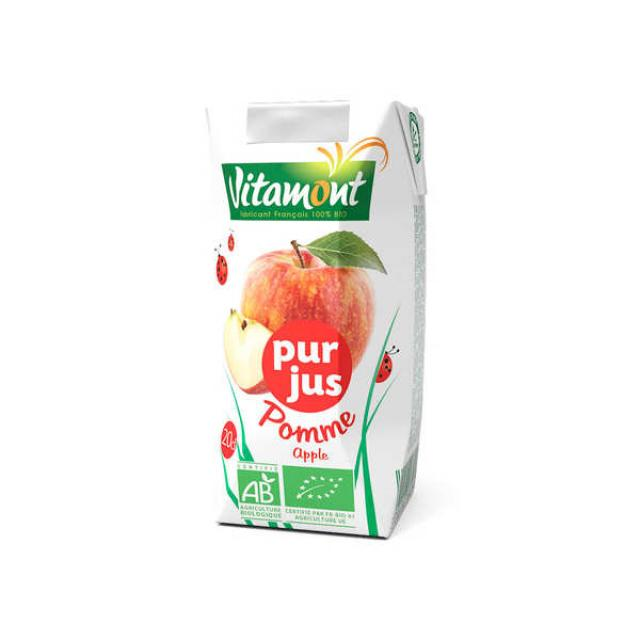non_white_jug: (208, 81, 426, 536)
